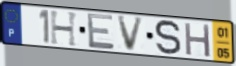1: (38, 9, 51, 46)
E: (86, 11, 116, 51)
H: (49, 10, 80, 48), (183, 21, 212, 59)
S: (153, 19, 183, 57)
V: (116, 15, 146, 53)
